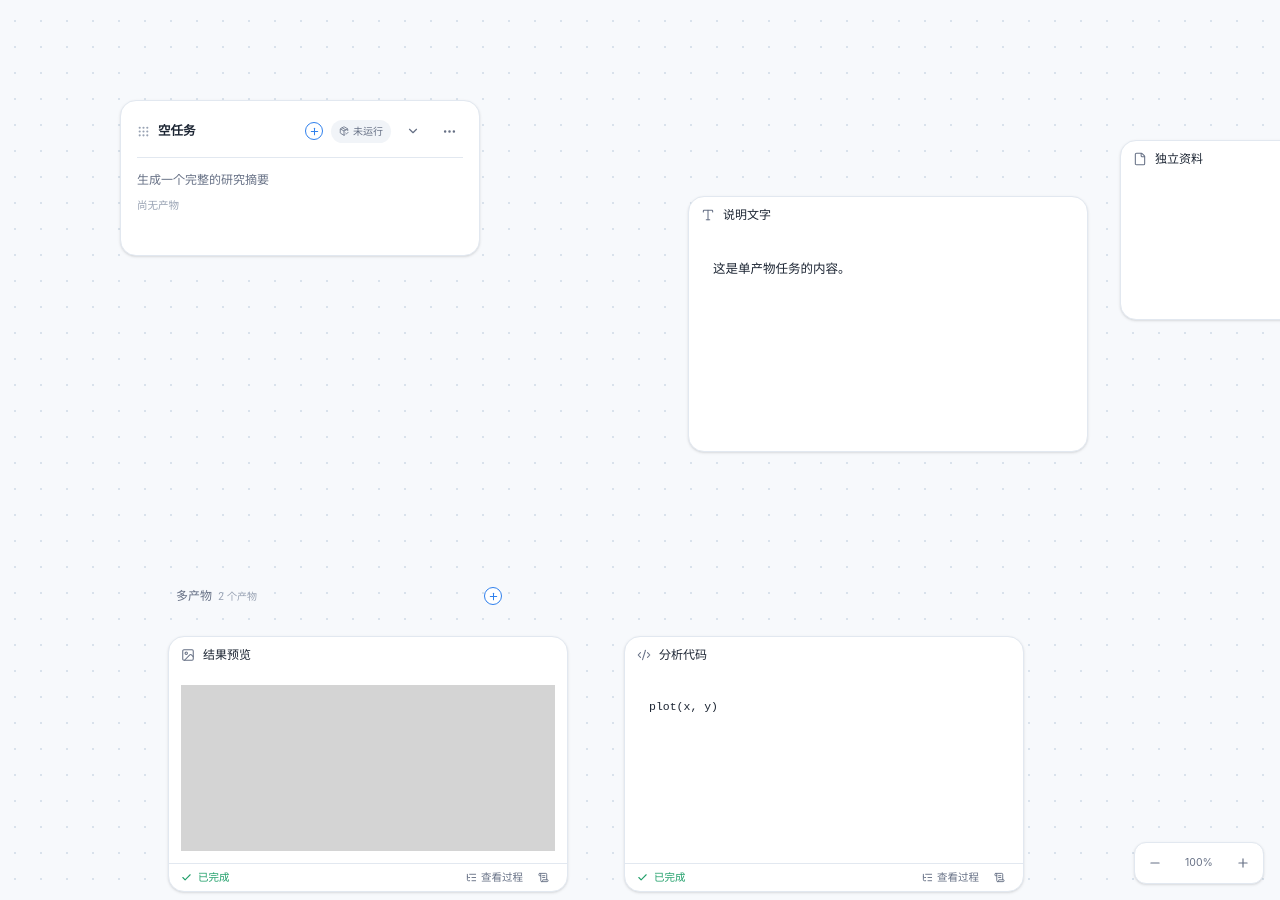
it: Canvas interactive stage › describes Task removal in user terms without leaking storage jargon
This screenshot has width=1280, height=900.
Click the button named "空任务任务菜单" at (449, 131), box [435,117,463,145]
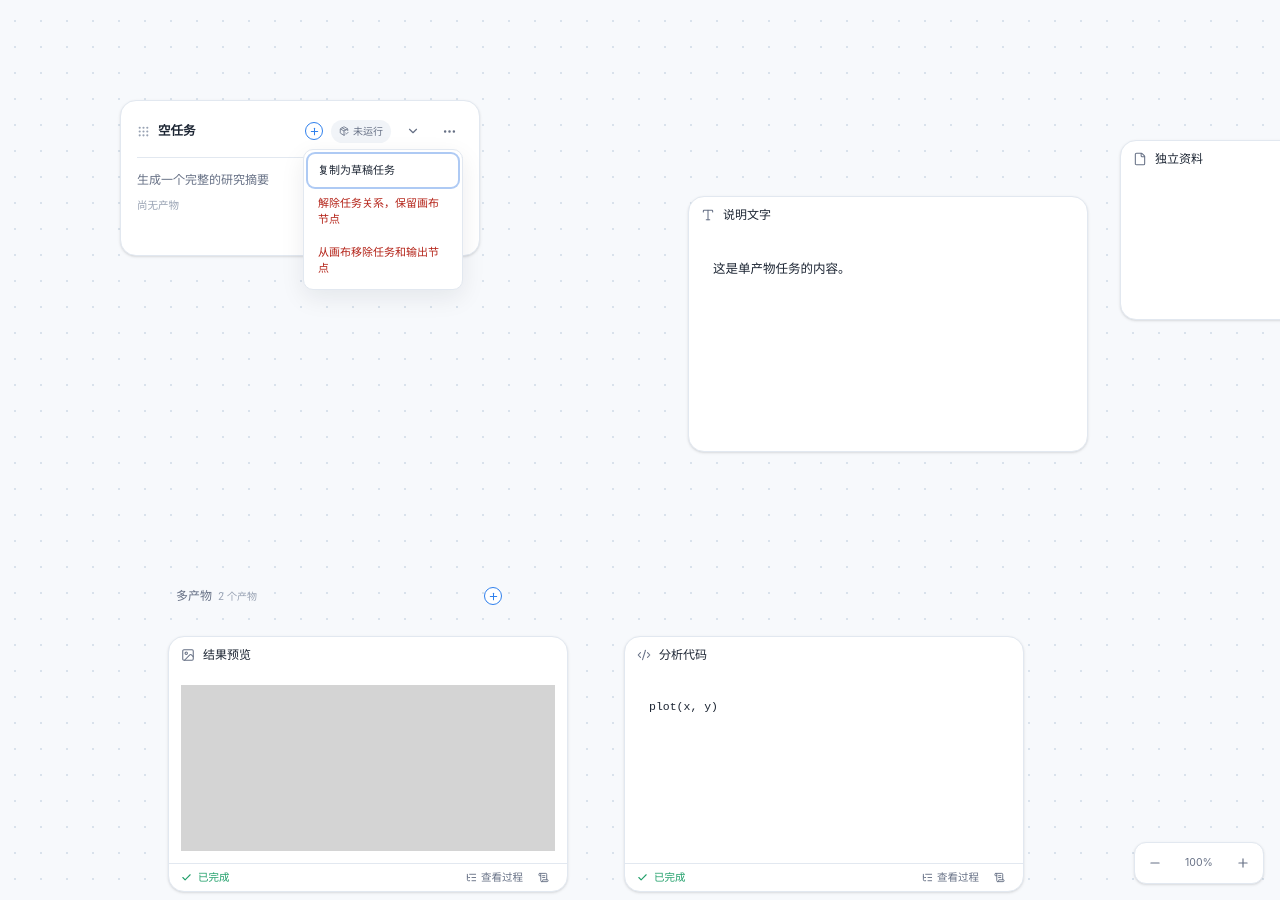
Click the menu item "解除任务关系，保留画布节点" at (383, 211), box [308,186,458,236]
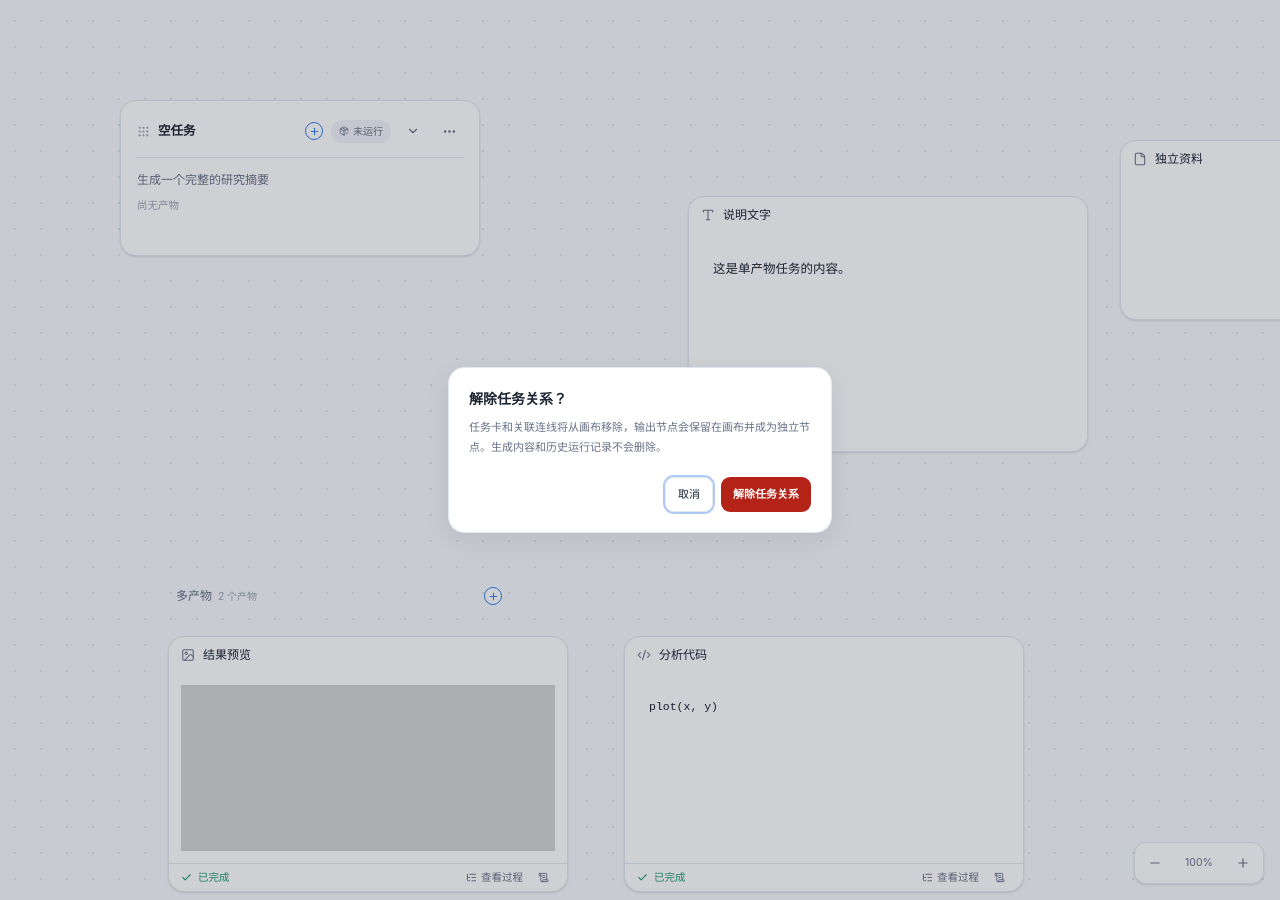
Expected: the dialog shows "输出节点会保留在画布并成为独立节点", [469,420,810,454]
Click the button "取消" at (689, 495), box [665,477,713,512]
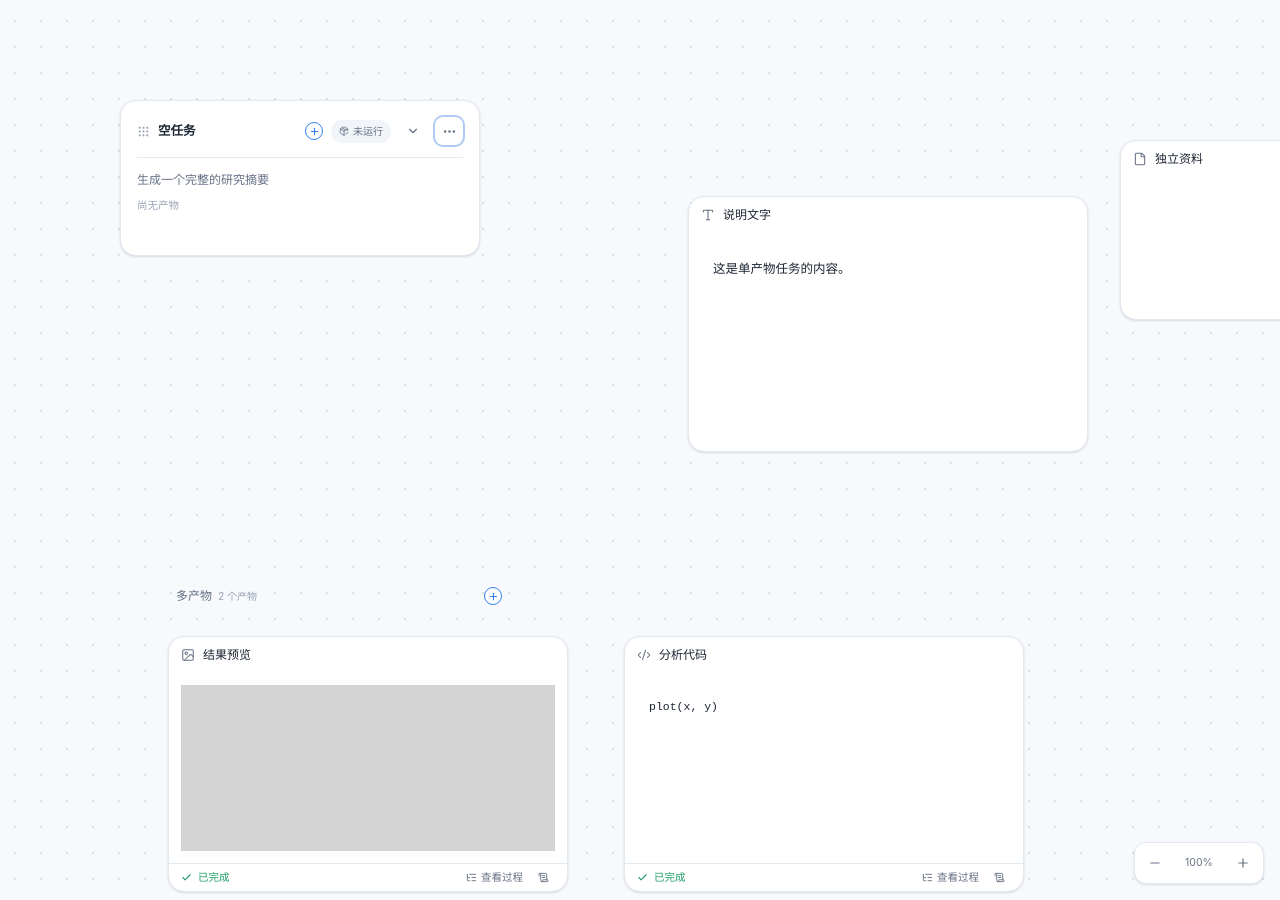
Click the button named "空任务任务菜单" at (449, 131), box [435,117,463,145]
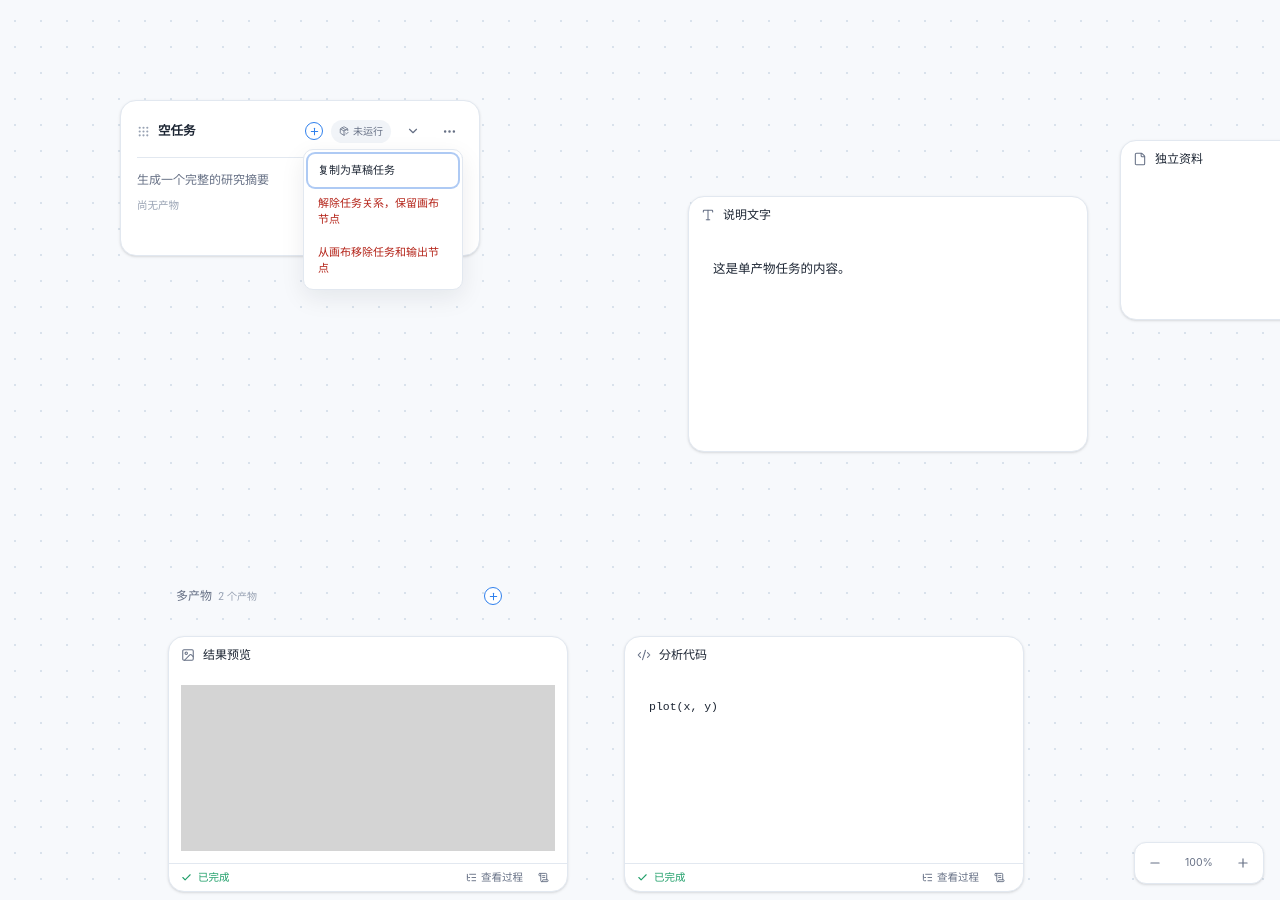
Click the menu item "从画布移除任务和输出节点" at (383, 260), box [308,236,458,284]
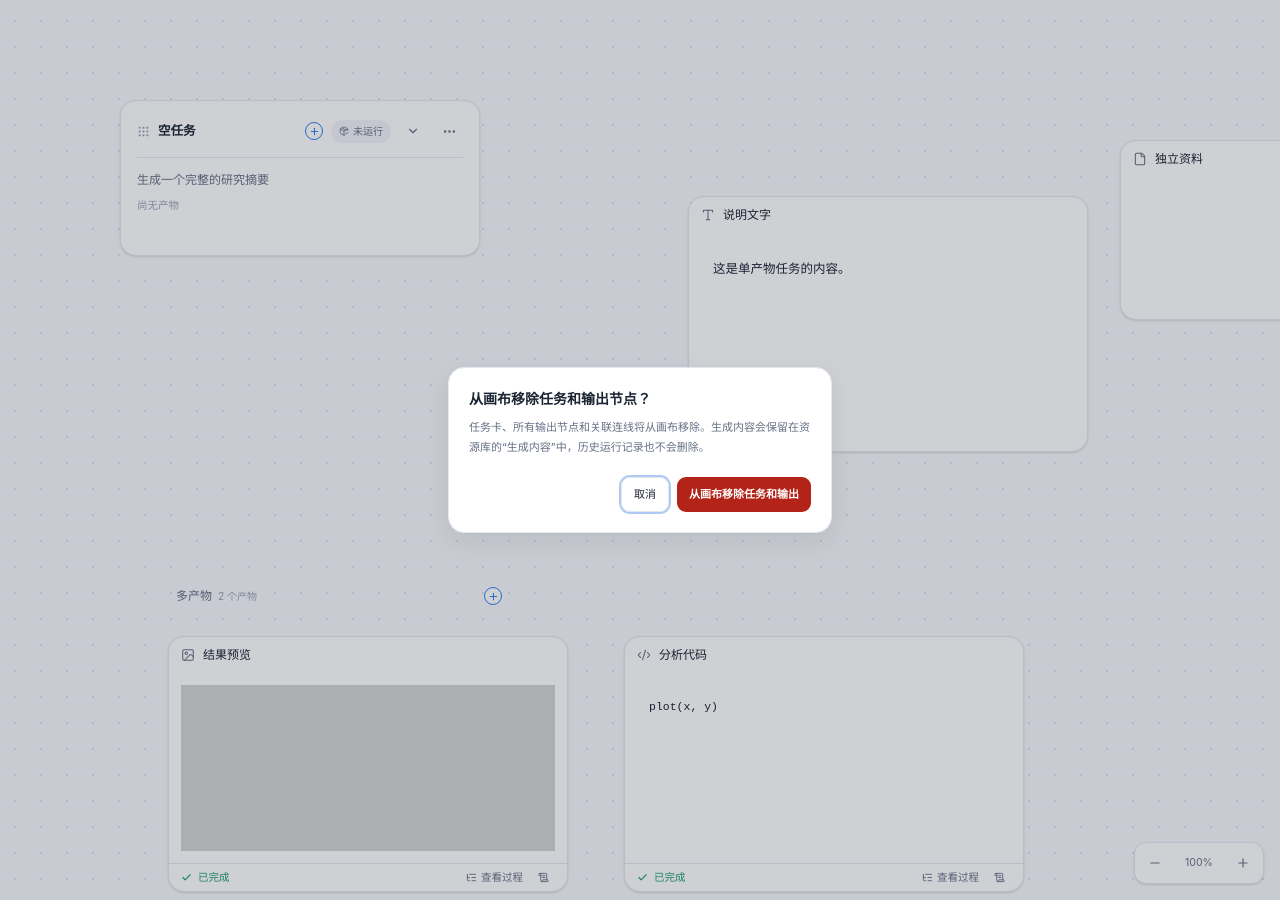
Expected: the dialog shows "生成内容会保留在资源库的“生成内容”中", [469,420,810,454]
